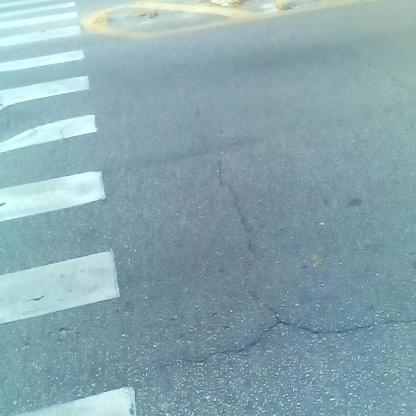crosswalk: (2, 1, 145, 402)
